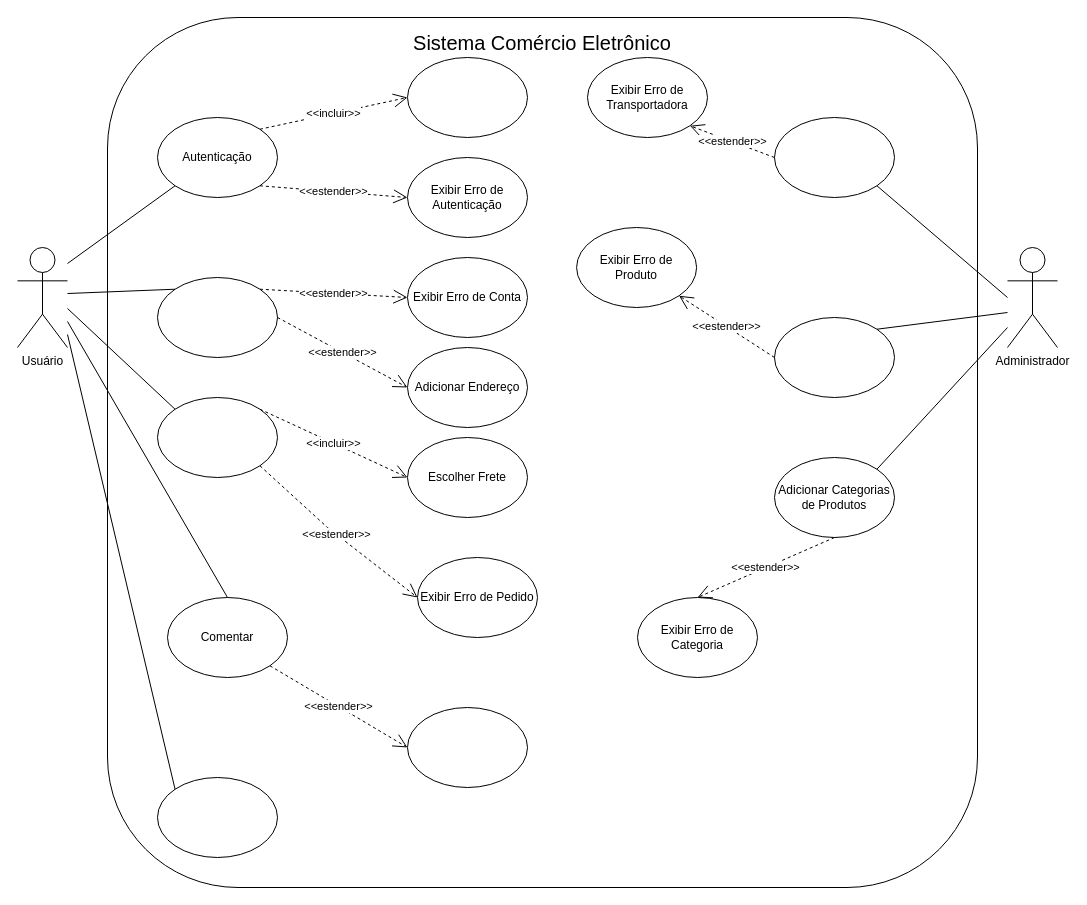
Some shapes in this 1087 by 905 pixel diagram are drawn without their labels. Each missing label, with the centre of its shape:
Adicionar Produtos: the point at 834,357
Adicionar Transportadora: the point at 834,157
Criar Conta: the point at 217,317
Exibir Erro de Comentário: the point at 467,747
Fazer Pedido: the point at 217,437
Filtrar Busca de Produtos: the point at 217,817
Verificar Login: the point at 467,97
